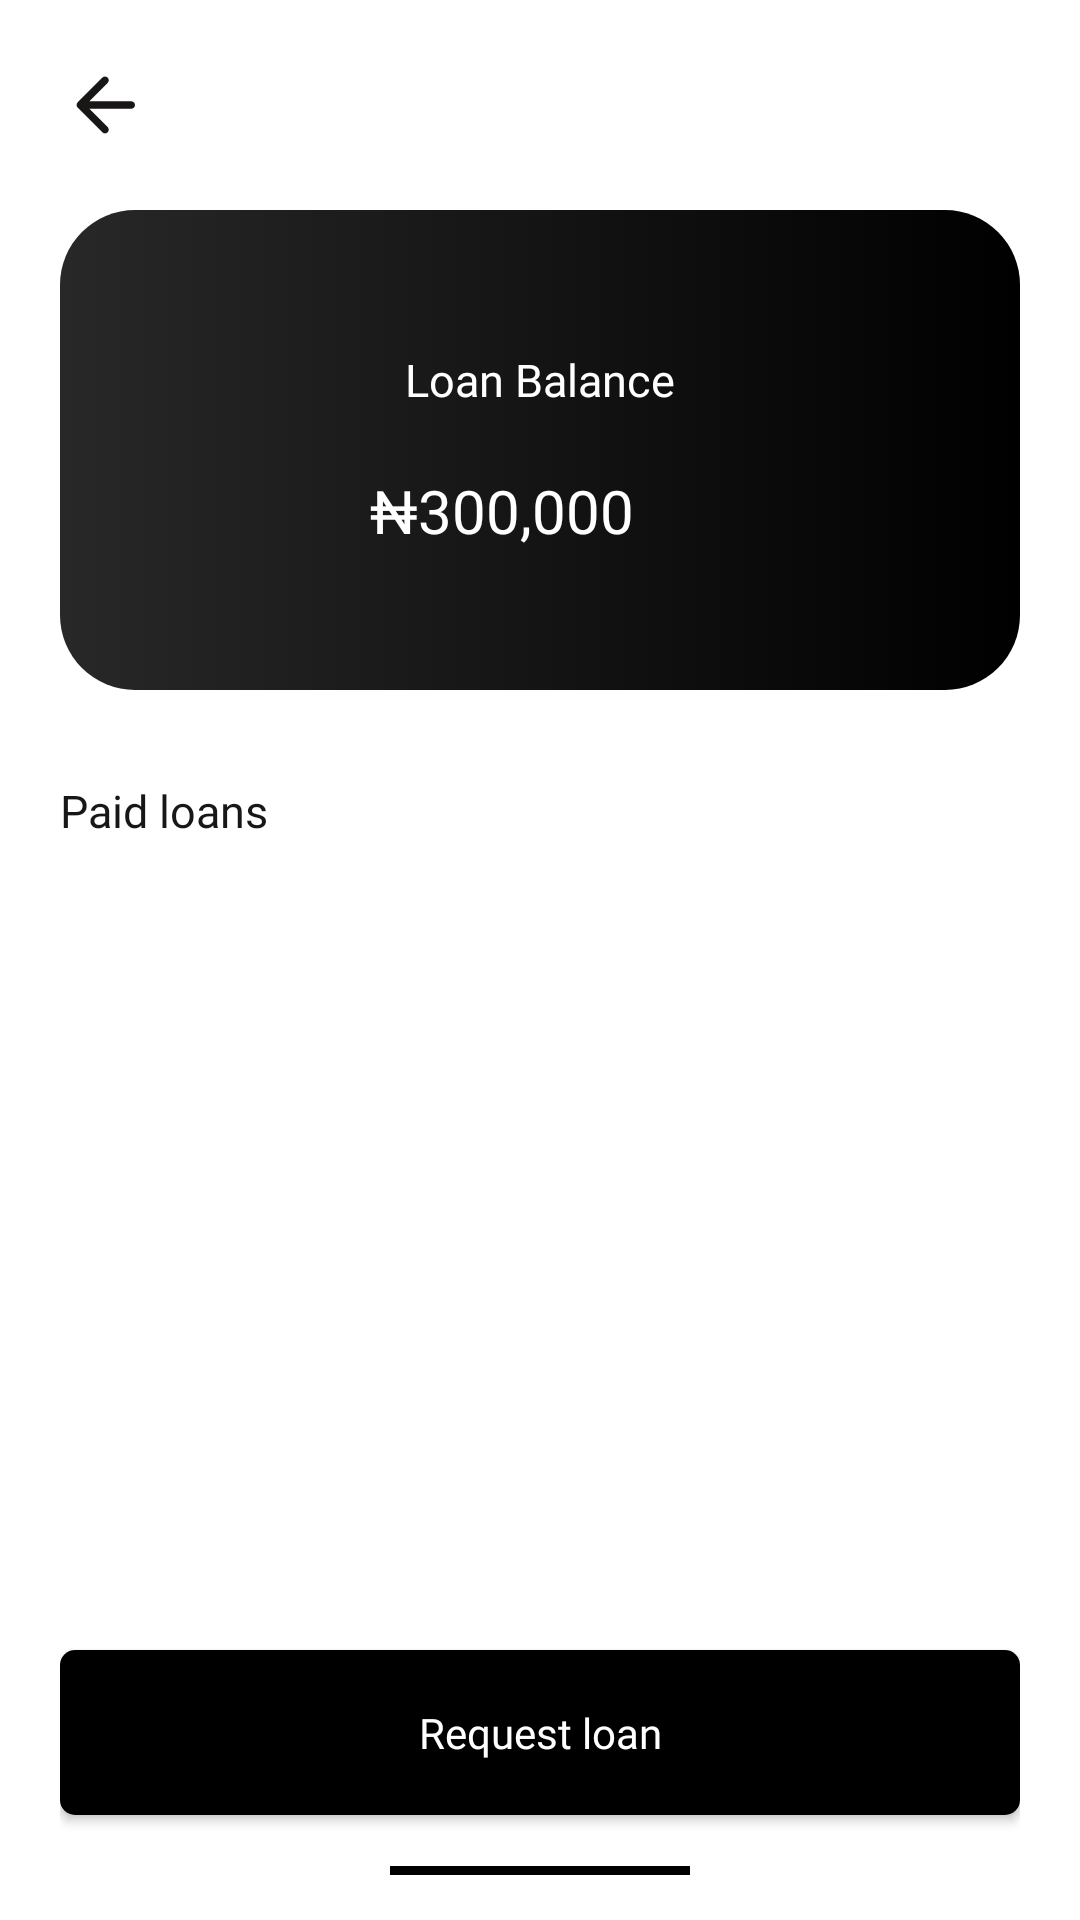

Icons on this 1080px x 1920px Android screen, each with its box as [left=x1, top=y1, right=x2, bottom=y2]:
arrow left: [left=76, top=76, right=135, bottom=134]
